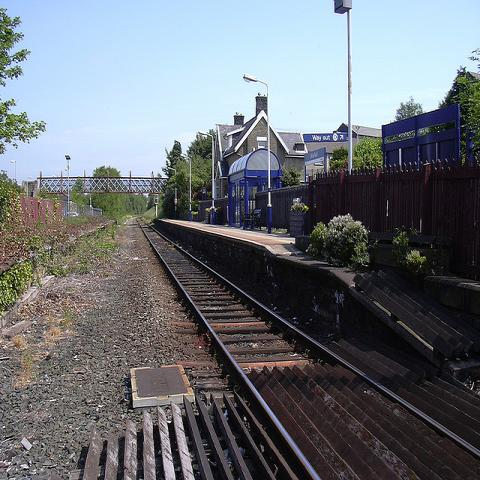car: (63, 211, 79, 217)
